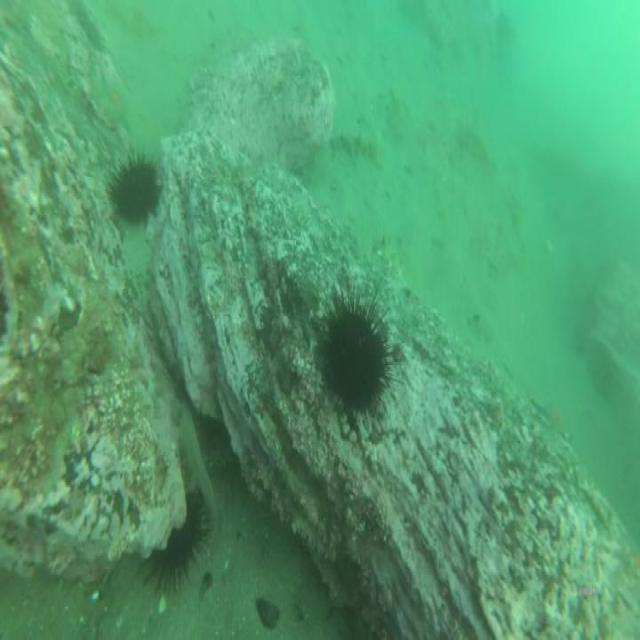echinus: (316, 284, 393, 420), (150, 490, 209, 588), (106, 148, 162, 232)
